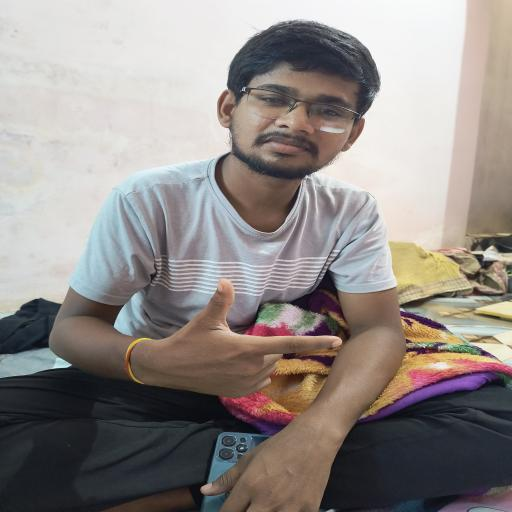OK: (146, 270, 362, 411)
